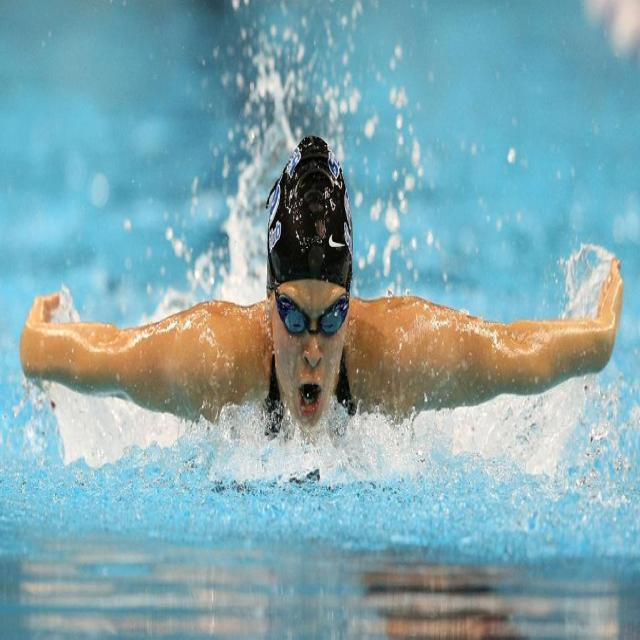Face: (274, 263, 356, 431)
